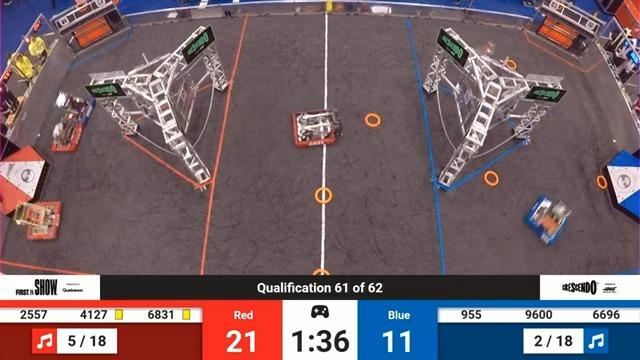robot: (12, 196, 73, 249), (525, 192, 576, 245), (288, 106, 343, 151), (50, 86, 96, 126), (46, 117, 91, 156), (465, 35, 508, 75)
